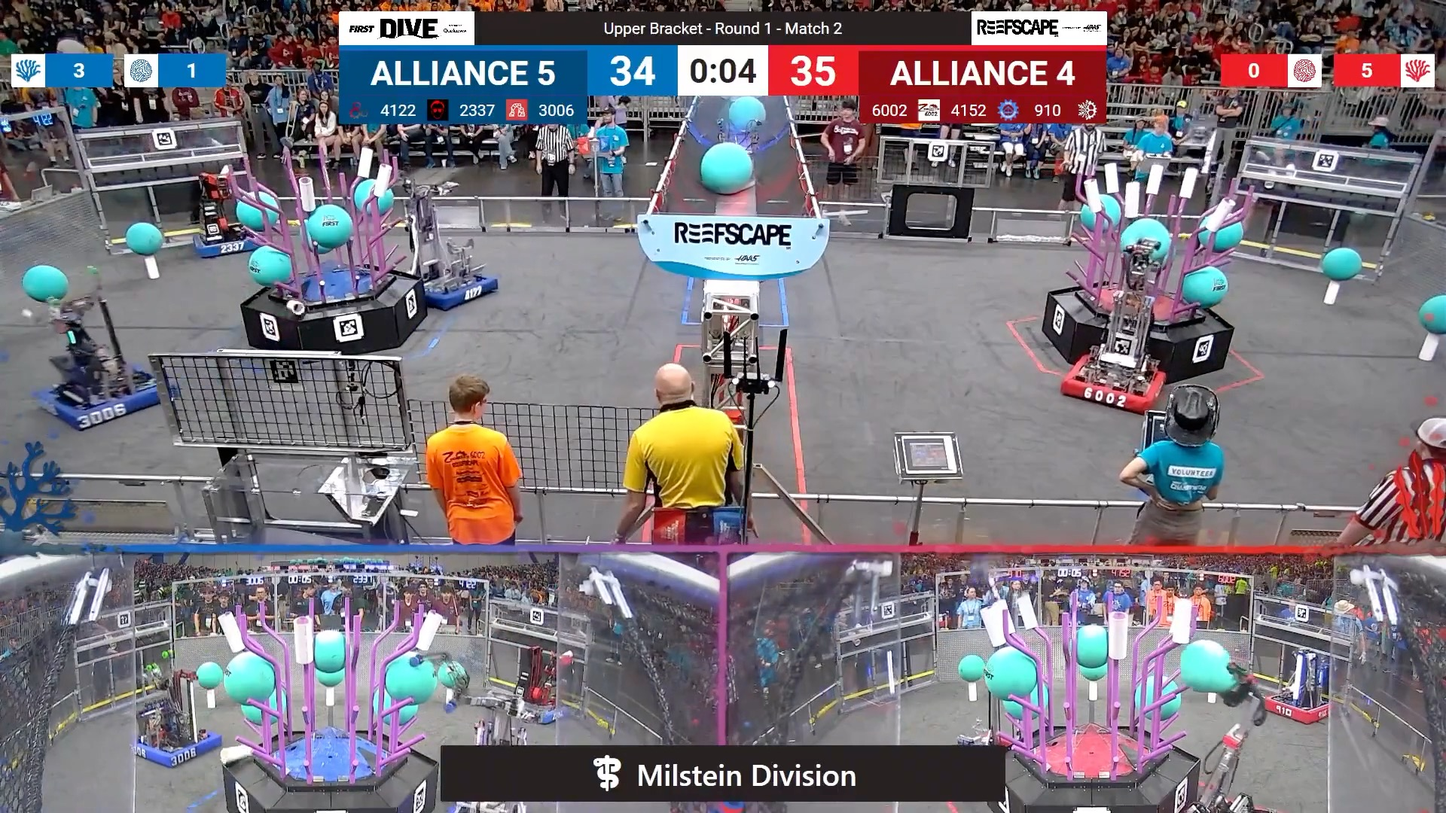bumpers: (32, 370, 175, 433), (1054, 350, 1175, 414), (392, 260, 507, 311), (124, 724, 227, 772), (186, 223, 273, 262), (1254, 692, 1342, 727)
